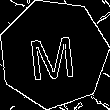M_N: (28, 26, 79, 81)
